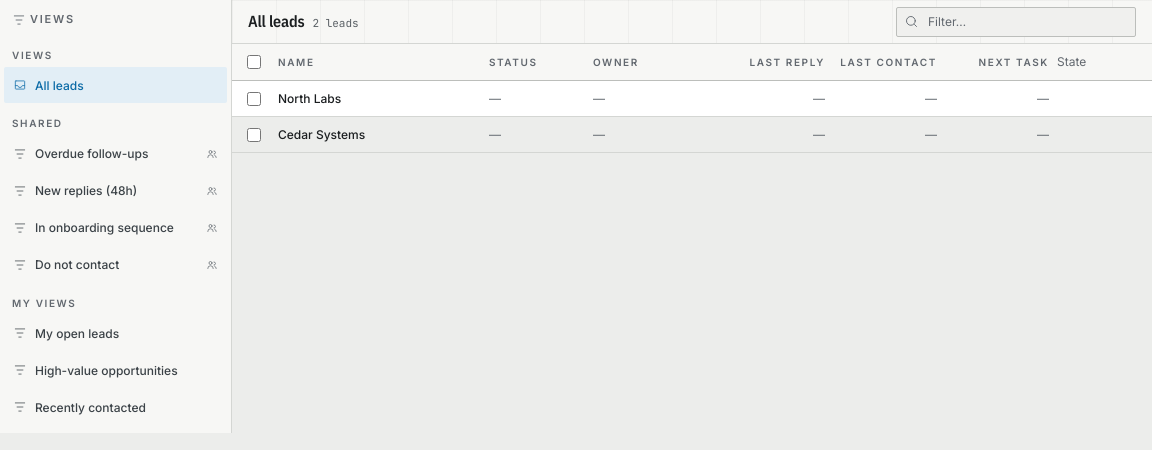
Scenario: LeadsSurface — filter, selection, reduced motion › selecting rows reveals the bulk bar with the live LeadBulkActions
Step 1. Click the checkbox named "Select North Labs" → {"x": 254, "y": 98}, box [246,92,260,106]
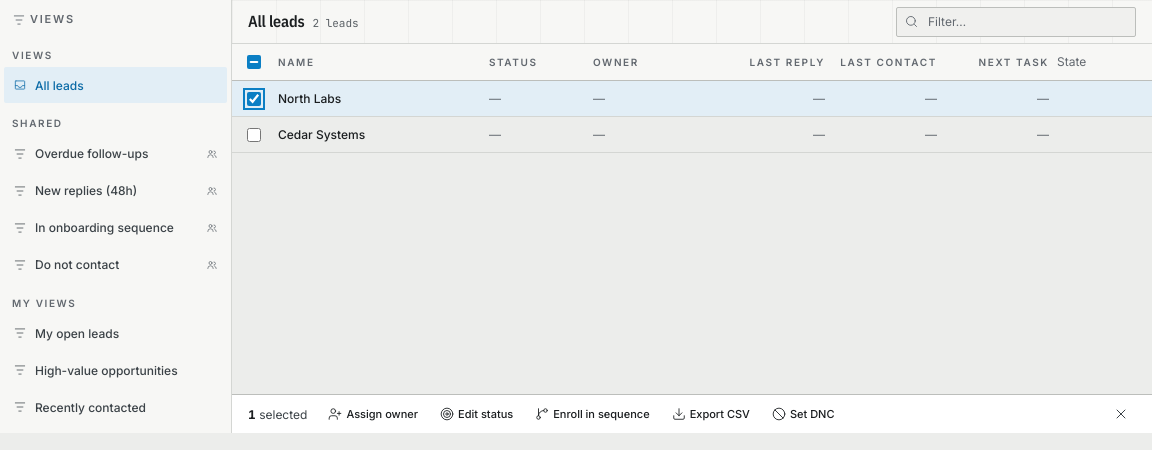
Result: the element named "1 leads selected" is shown at [232,394,1151,433]
Result: the button "Export CSV" is enabled at [663,402,759,426]
Result: the button "Enroll in sequence" is shown at [526,402,659,426]
Step 2. Click the button named "Clear selection" → {"x": 1121, "y": 414}, box [1106,399,1136,429]
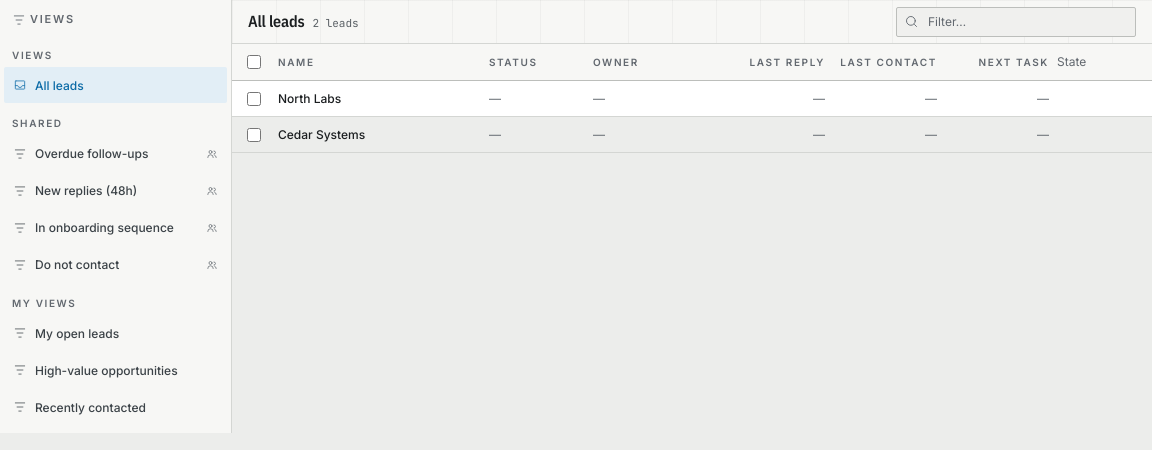
Result: the element "selected" is gone
